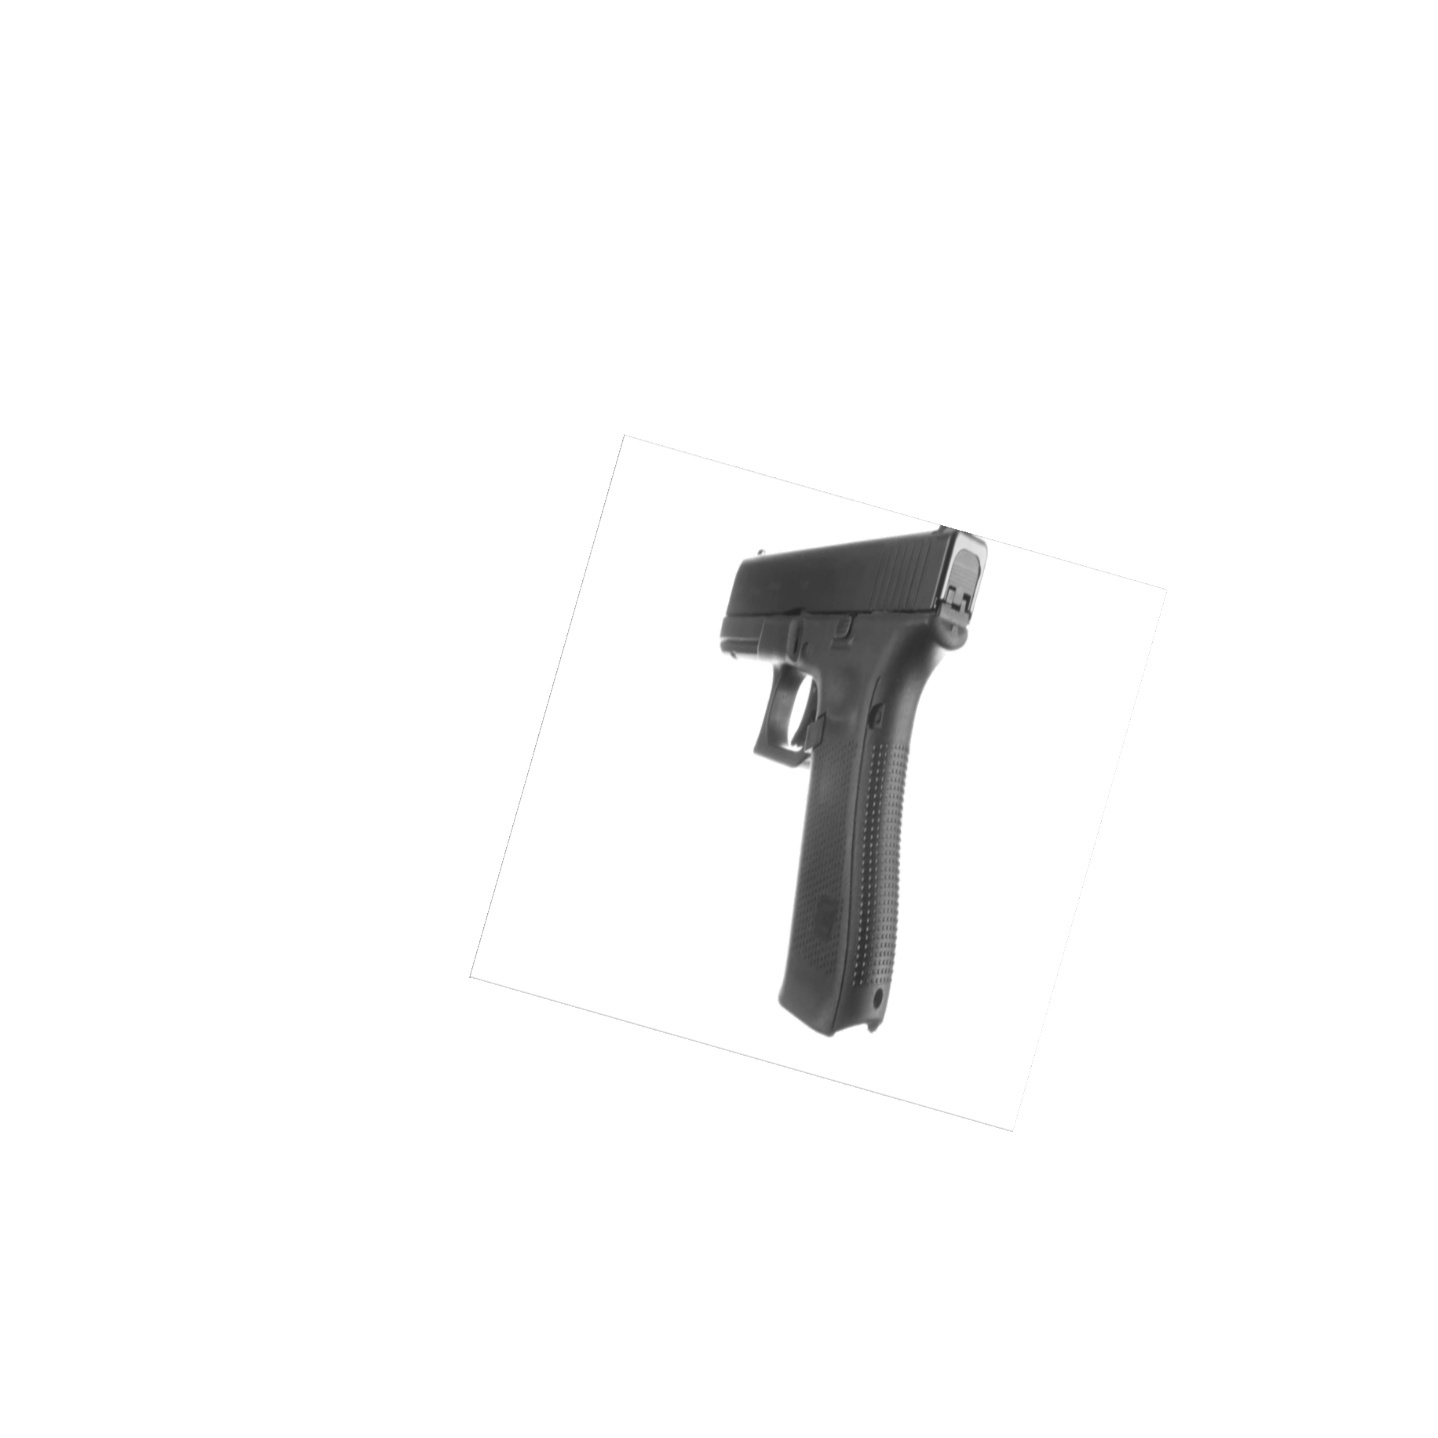gun: (697, 514, 1057, 1036)
